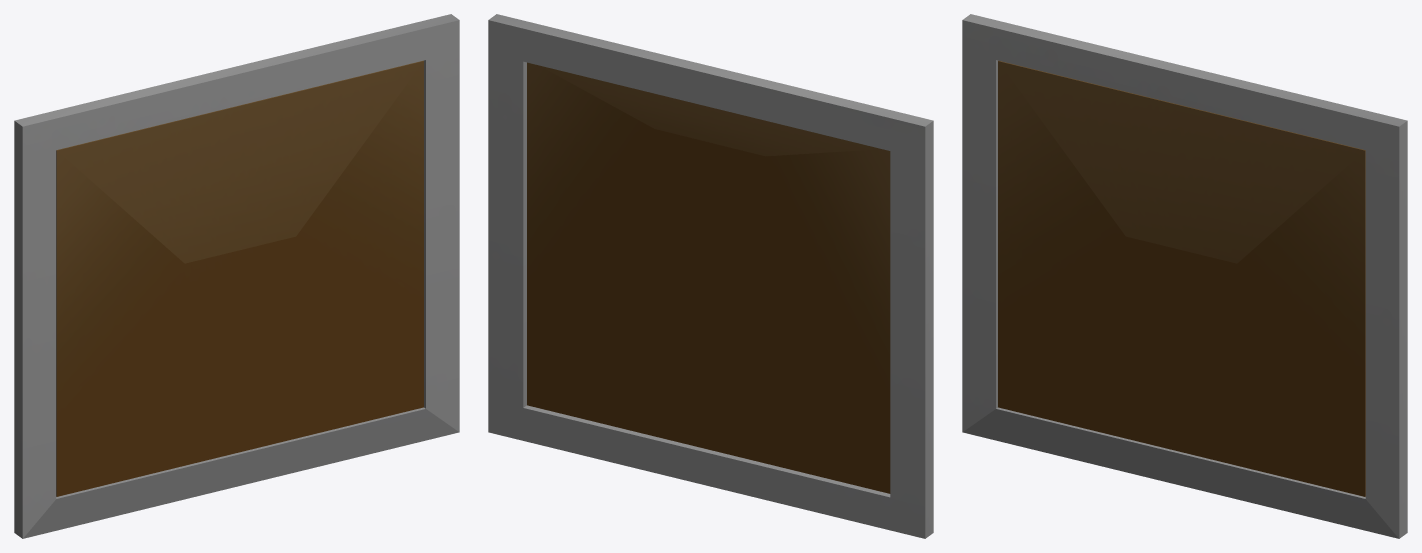
File: Gdoor.obj
3 views of the same model, side by side, from view 1: azimuth 30°, elevation 25°; view 2: azimuth 150°, elevation 25°; view 3: azimuth 330°, elevation 25° (orthographic).
Visible parts, largest first — view 1: Cube.001; view 2: Cube.001; view 3: Cube.001.
Part boxes in pixels (x1,y1,x2,y2): Cube.001: (14, 14, 459, 538); Cube.001: (488, 14, 933, 538); Cube.001: (962, 14, 1407, 538).
Bounding box in the file's own units: 9.02 × 8.13 × 0.2977.
